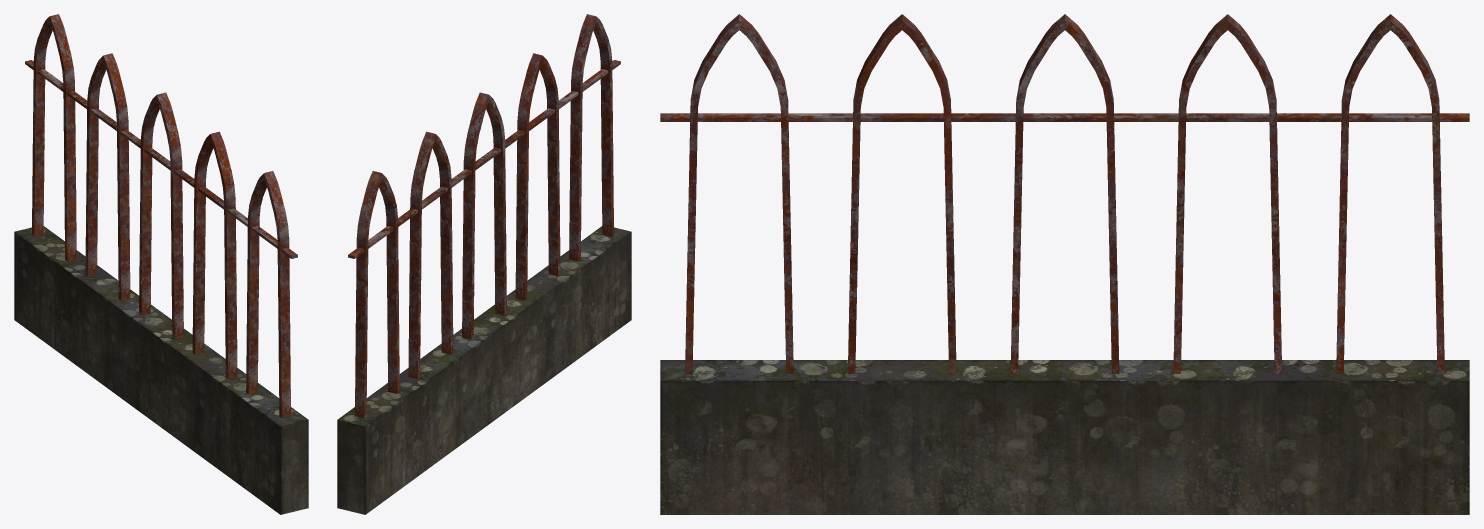
File: SM_TombRailings.fbx
The picture shows the model from 3 angles, left to right: view 1: azimuth 30°, elevation 25°; view 2: azimuth 150°, elevation 25°; view 3: azimuth 270°, elevation 25°; orthographic projection. The views are drawn at different scales.
Visible parts, largest first — view 1: SM_TombRailings_LOD0; view 2: SM_TombRailings_LOD0; view 3: SM_TombRailings_LOD0.
Boxes of the visible parts, x1,y1,x2,y2 form: SM_TombRailings_LOD0: (14, 14, 308, 514); SM_TombRailings_LOD0: (337, 14, 631, 514); SM_TombRailings_LOD0: (660, 14, 1469, 514).
Bounding box in the file's own units: 12.2 × 200 × 133.
Materials: 1 (1 with a texture image).
